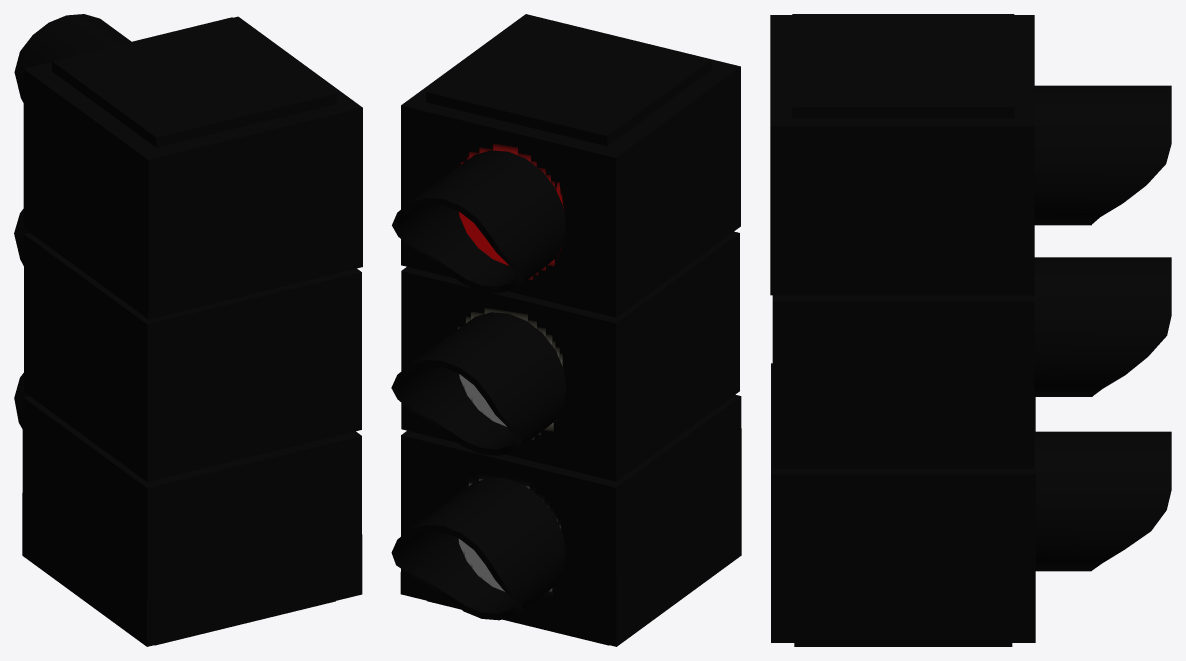
File: streetLight.fbx
The picture shows the model from 3 angles, left to right: view 1: azimuth 30°, elevation 25°; view 2: azimuth 150°, elevation 25°; view 3: azimuth 270°, elevation 25°; orthographic projection. The views are drawn at different scales.
Visible parts, largest first — view 1: pCube2; view 2: pCube2; view 3: pCube2.
Part boxes in pixels (x1,y1,x2,y2): pCube2: (14, 14, 362, 646); pCube2: (391, 14, 741, 646); pCube2: (770, 14, 1171, 646).
Bounding box in the file's own units: 0.8711 × 1.96 × 1.32.
